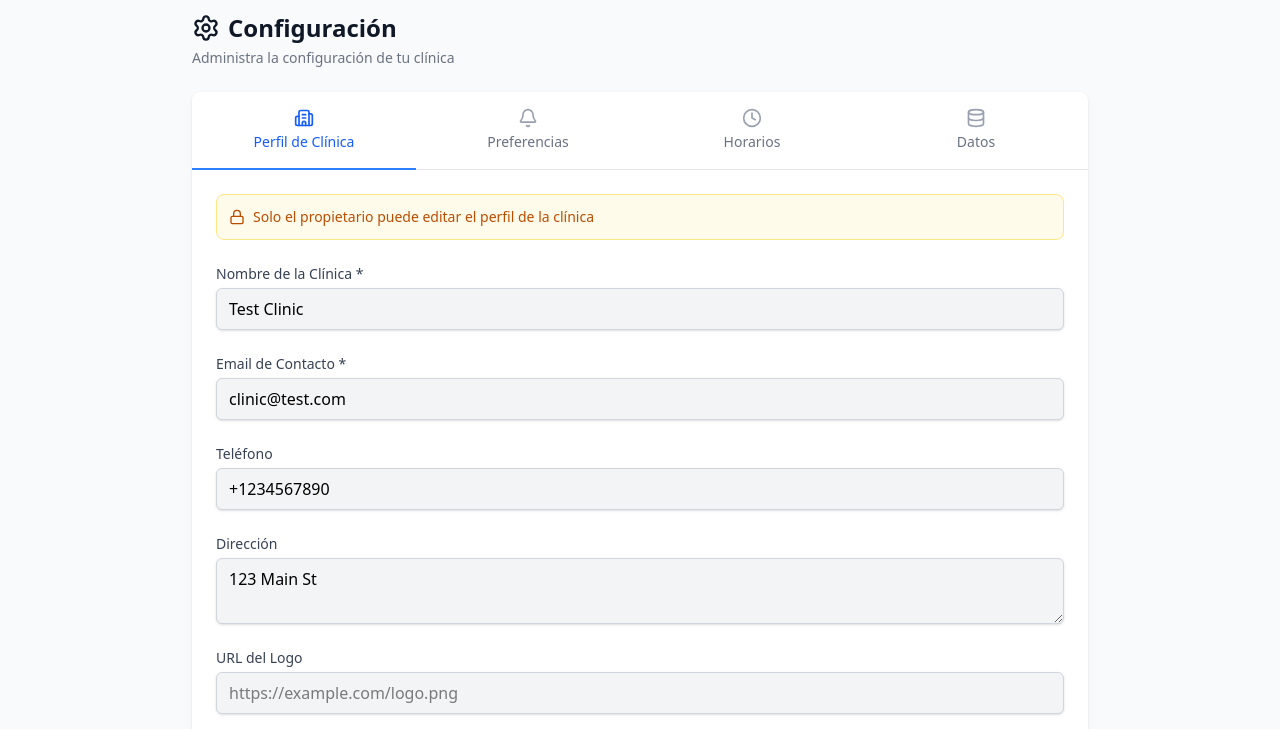
it: SettingsPage › should not allow STAFF to edit preferences
The width and height of the screenshot is (1280, 729).
Click the button "Preferencias": (528, 131) [416,92,640,170]
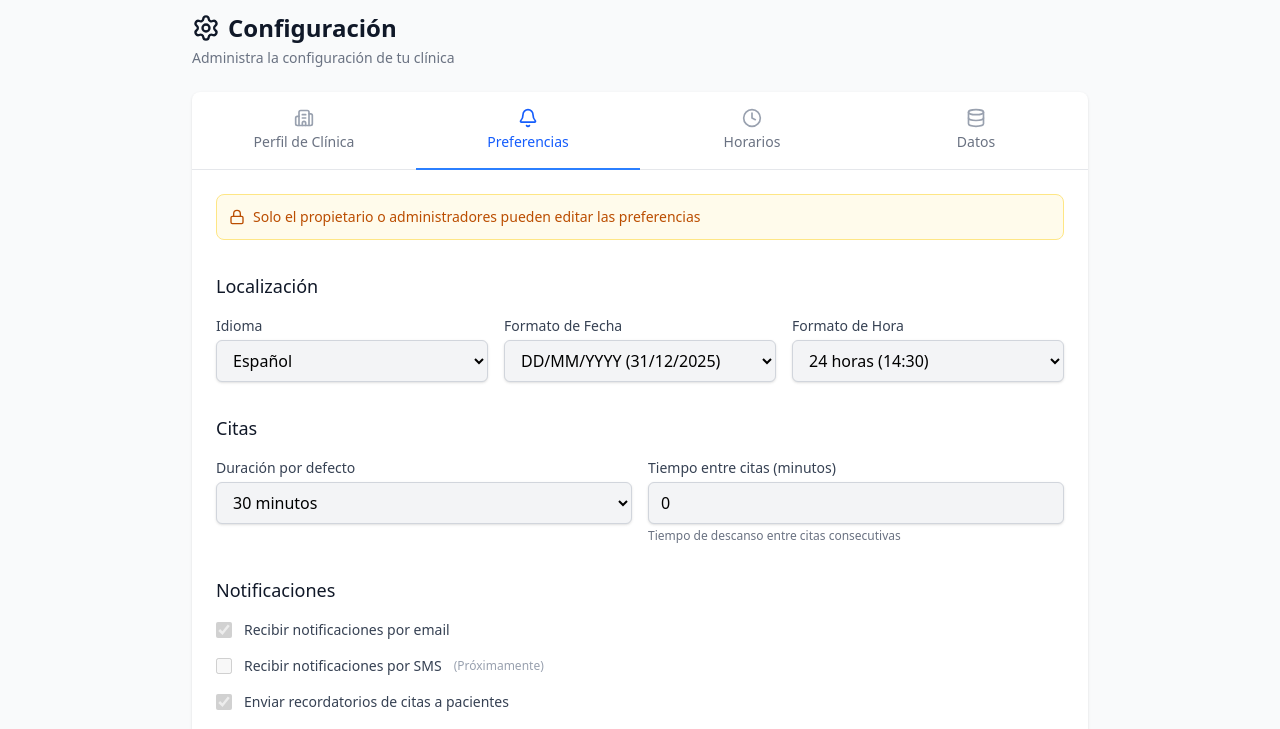
Expected: the dropdown labelled "Idioma" is disabled, [216,340,488,382]
